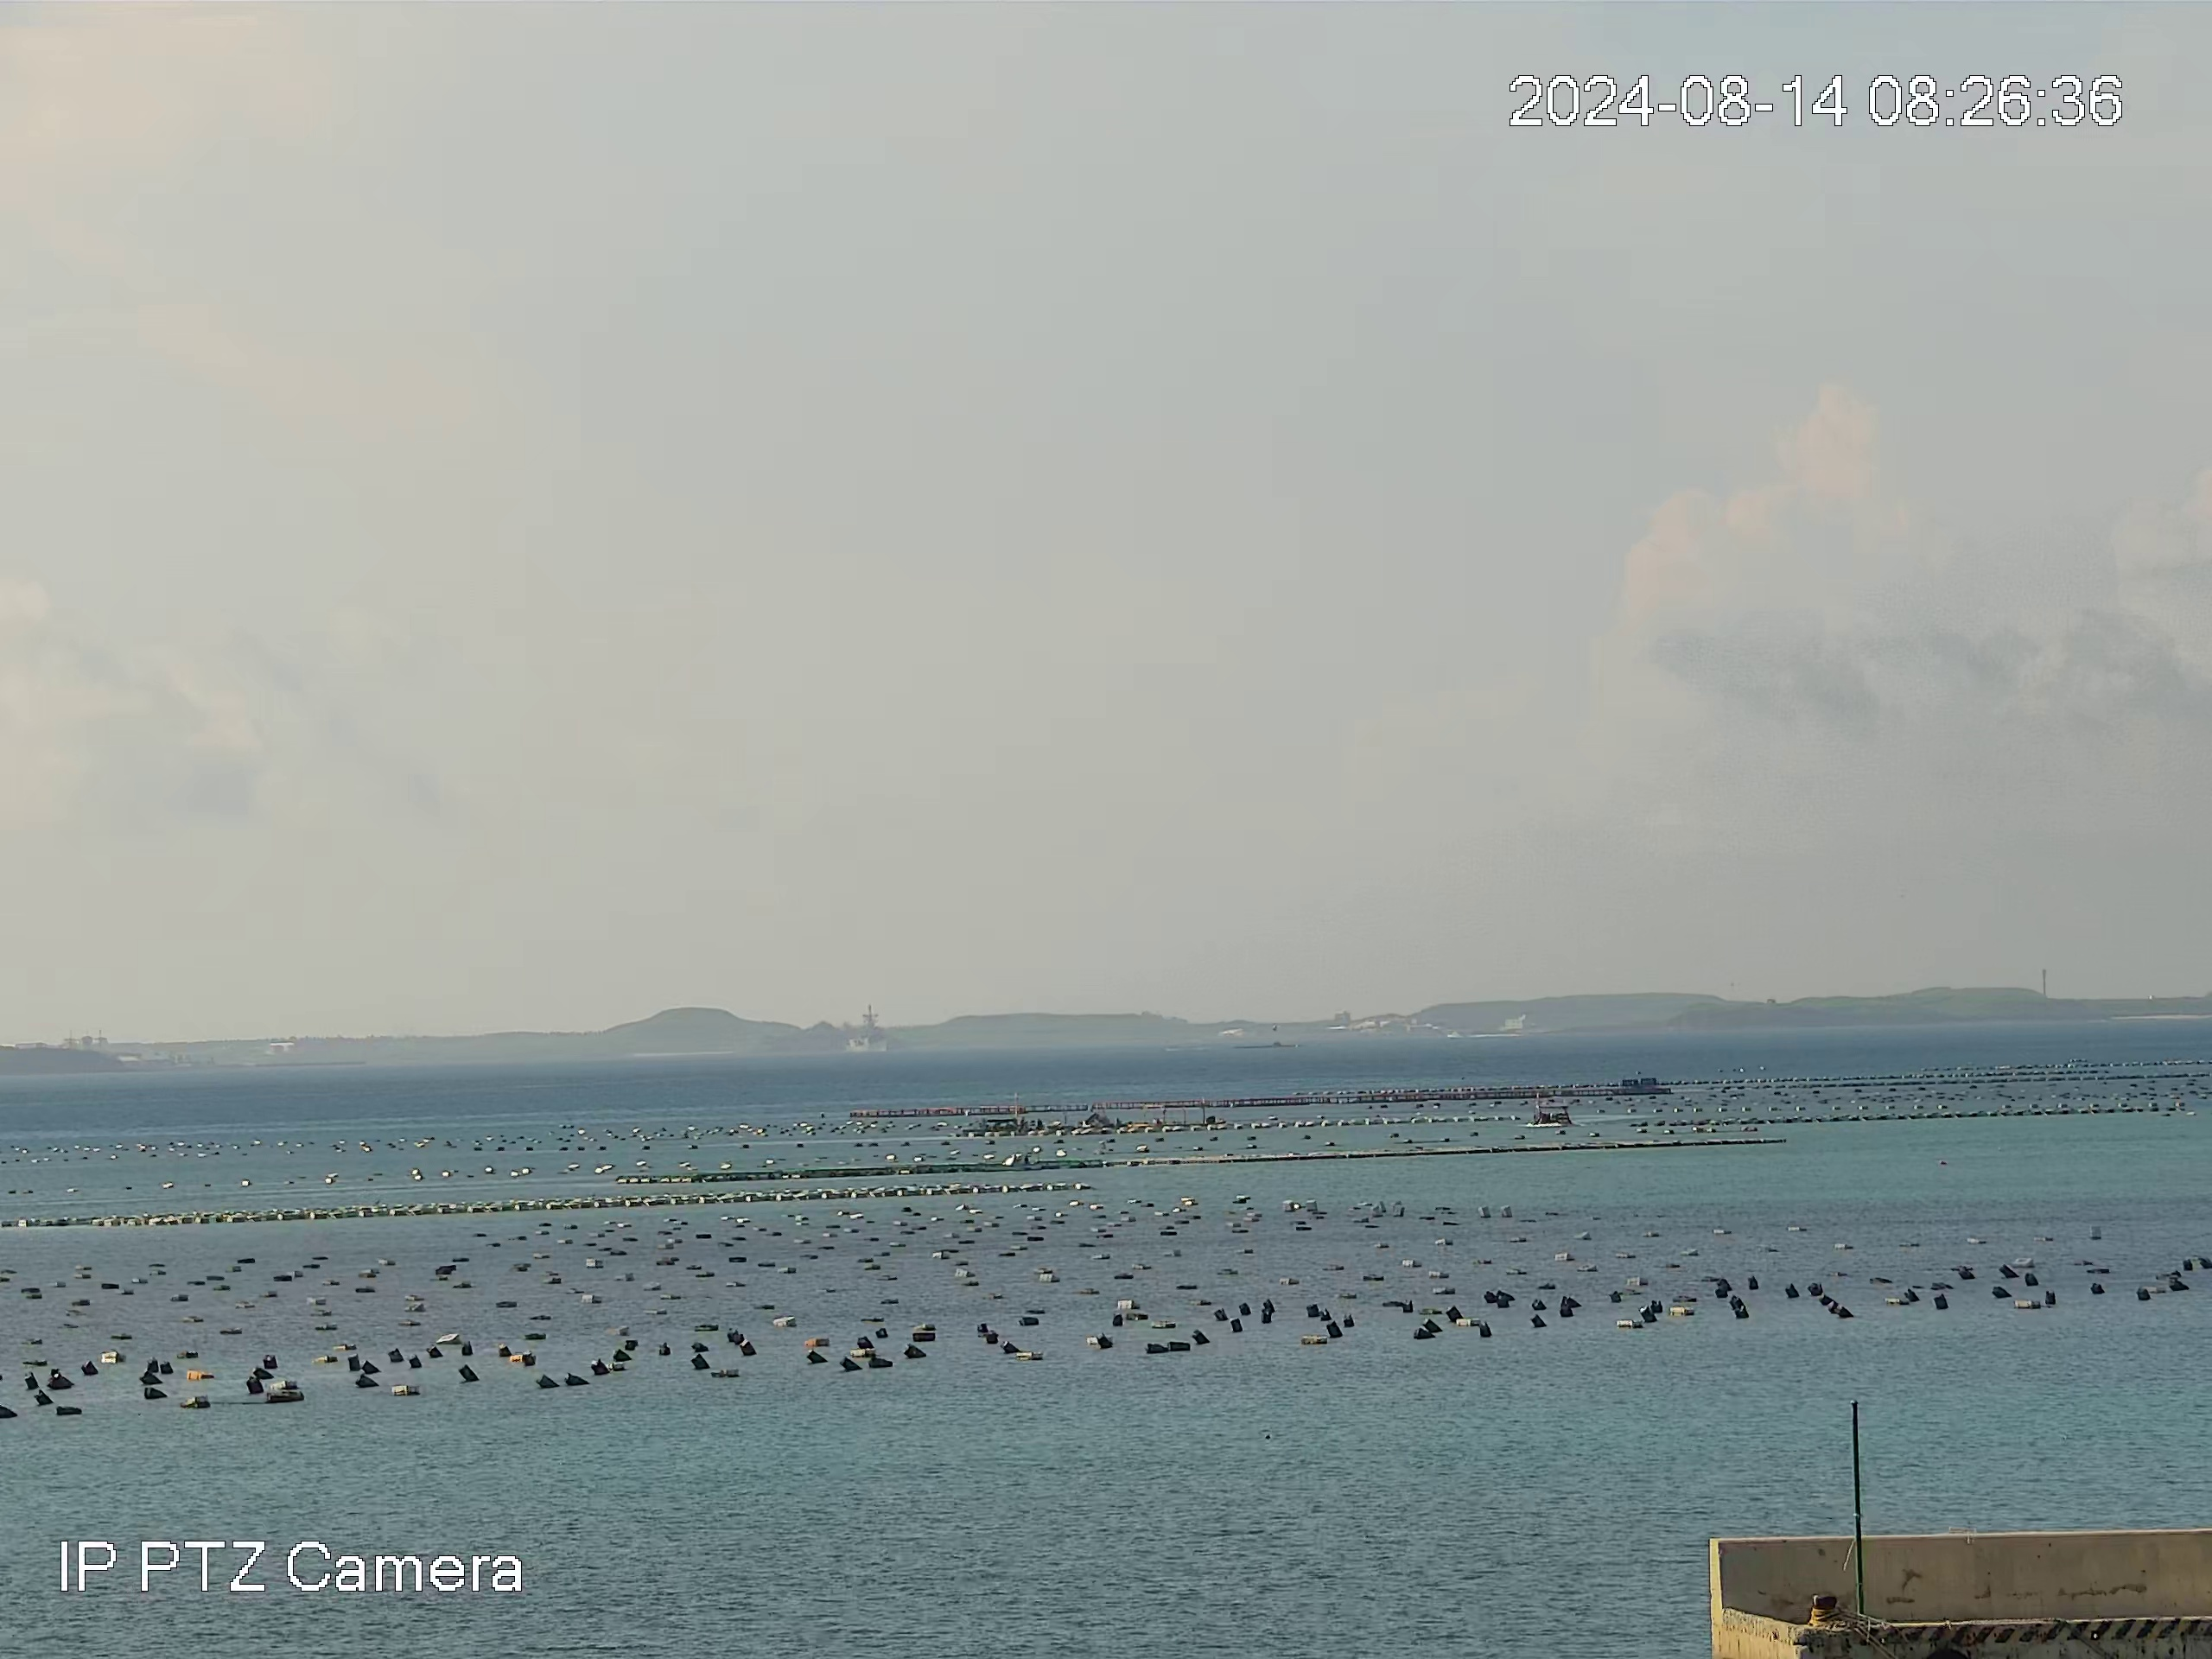boat: (1527, 1101, 1578, 1127)
